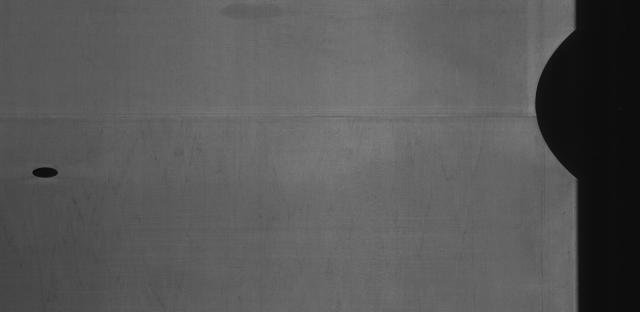crescent_gap: (532, 24, 588, 183)
punching_hole: (27, 165, 62, 182)
welding_line: (4, 107, 534, 126)
